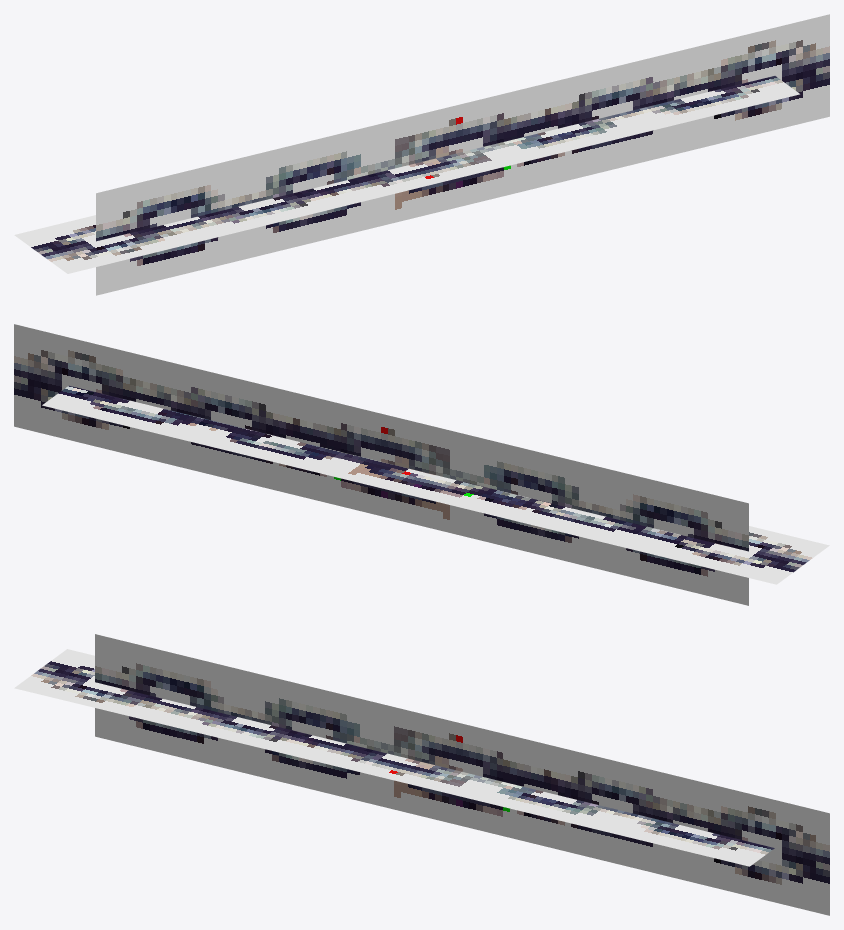
Rendered from chain.glb.
The picture shows the model from 3 angles, top to bottom: view 1: azimuth 30°, elevation 25°; view 2: azimuth 150°, elevation 25°; view 3: azimuth 330°, elevation 25°; orthographic projection.
Parts seen in each view (by area): view 1: chain; view 2: chain; view 3: chain.
Boxes of the visible parts, x1=… form: chain: x1=14, y1=14, x2=829, y2=295; chain: x1=14, y1=324, x2=829, y2=605; chain: x1=14, y1=634, x2=829, y2=915.
Bounding box in the file's own units: 3.04 × 0.3778 × 0.3574.
Materials: 1 (1 with a texture image).
